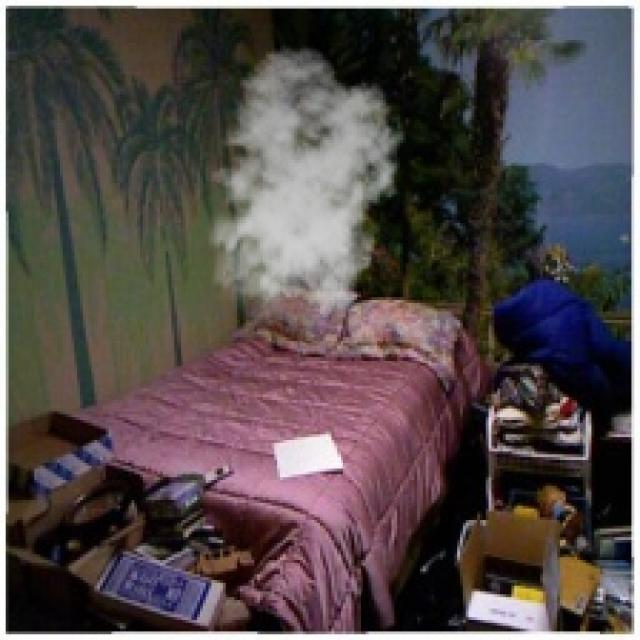Smoke: (197, 46, 406, 320)
